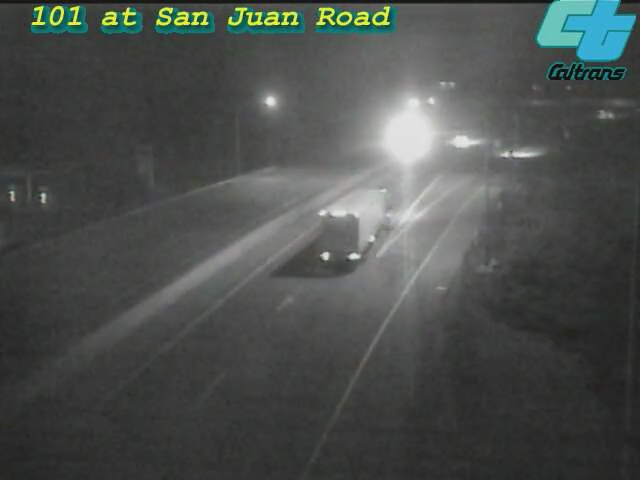vehicle: (319, 188, 399, 268), (380, 112, 430, 162), (581, 89, 631, 139), (438, 116, 488, 166), (487, 129, 537, 179)
